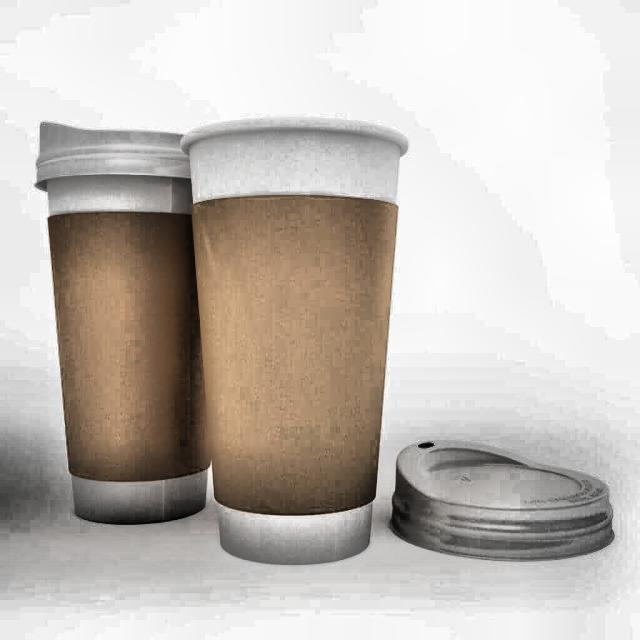Cup: (174, 108, 414, 582), (28, 120, 223, 536)
